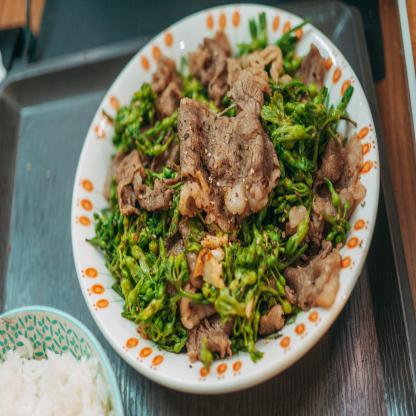Carne: (176, 120, 276, 220), (224, 54, 274, 113)
